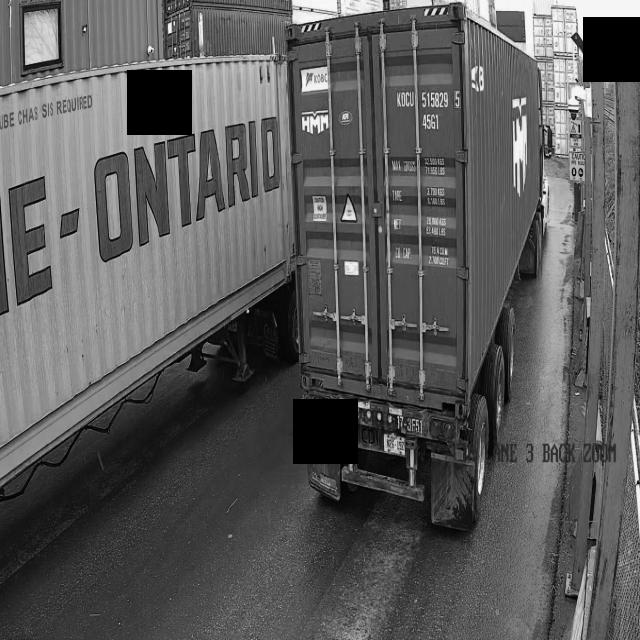container_company_logo: (298, 111, 331, 136)
container_number: (394, 86, 459, 139)
license_plate: (383, 428, 405, 460)
truck_with_container: (289, 4, 548, 529), (0, 57, 297, 500)
